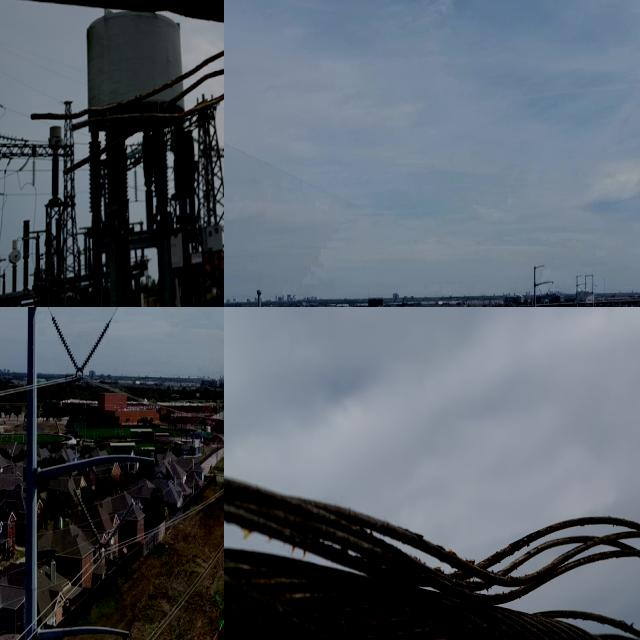正常绝缘子: (72, 310, 119, 387), (68, 474, 110, 558), (45, 307, 87, 383), (100, 493, 140, 555)
电缆破损: (249, 444, 640, 640), (16, 35, 224, 193)
